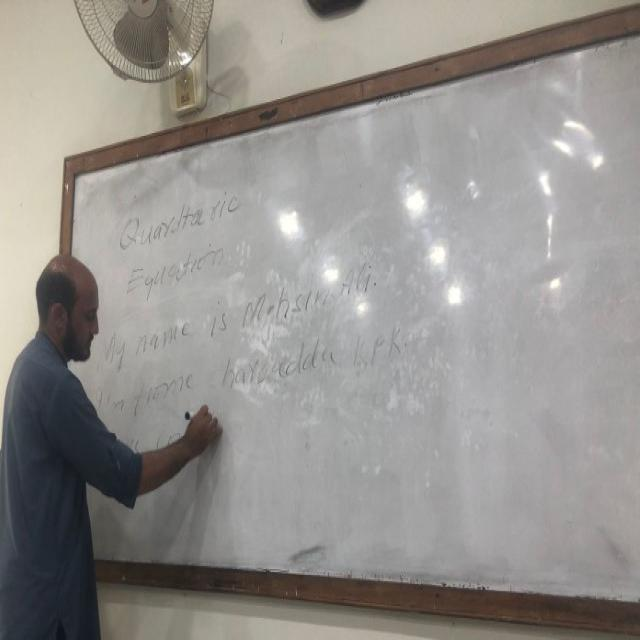Instructor: (15, 214, 104, 637)
White-board: (43, 21, 640, 636)
